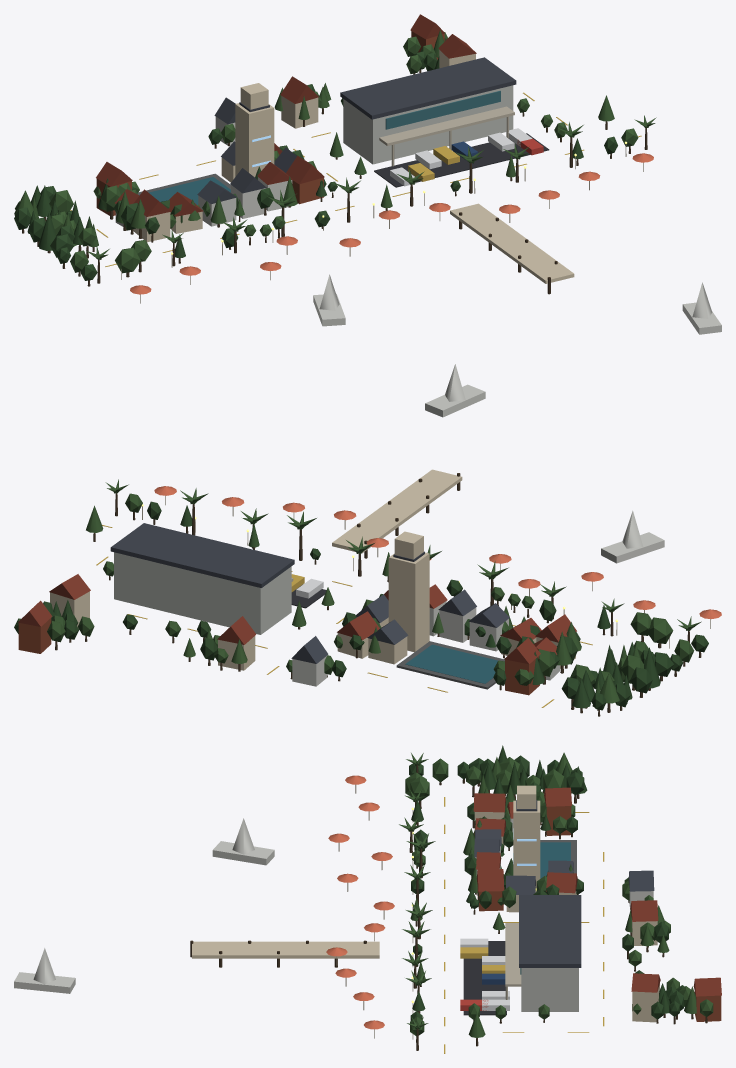
Rendered from maquette-ville-3.glb.
3 renders of one model, top to bottom at view 1: azimuth 30°, elevation 25°; view 2: azimuth 150°, elevation 25°; view 3: azimuth 270°, elevation 25°, orthographic. The views are drawn at different scales.
Parts seen in each view (by area): view 1: toiture_supermarche_1, halle_commerciale_1, ponton, tower_shaft_28, parking_slab_1, auvent_entree_1, bandeau_enseigne_1, petit_etang, house_body_65, bateau, tower_setback_28, house_roof_36 (+8 smaller); view 2: halle_commerciale_1, toiture_supermarche_1, tower_shaft_28, ponton, petit_etang, petit_etang_kerb, bateau_4, bateau, house_body_66, house_body_31, house_body_25, house_body_26 (+10 smaller); view 3: toiture_supermarche_1, ponton, halle_commerciale_1, tower_shaft_28, parking_slab_1, auvent_entree_1, bateau_4, bateau, petit_etang, house_body_67, house_roof_28, house_roof_36 (+8 smaller).
Boxes of the visible parts, bbox=[...] form: toiture_supermarche_1: bbox=[340, 57, 516, 119]; halle_commerciale_1: bbox=[343, 85, 513, 164]; ponton: bbox=[450, 203, 574, 283]; tower_shaft_28: bbox=[235, 103, 274, 177]; parking_slab_1: bbox=[374, 133, 549, 187]; auvent_entree_1: bbox=[379, 106, 514, 145]; bandeau_enseigne_1: bbox=[385, 90, 500, 129]; petit_etang: bbox=[139, 177, 230, 204]; house_body_65: bbox=[281, 96, 318, 128]; bateau: bbox=[682, 302, 721, 334]; tower_setback_28: bbox=[240, 83, 268, 109]; house_roof_36: bbox=[286, 155, 324, 184]; halle_commerciale_1: bbox=[114, 552, 291, 634]; toiture_supermarche_1: bbox=[110, 523, 294, 587]; tower_shaft_28: bbox=[388, 552, 429, 652]; ponton: bbox=[332, 469, 462, 553]; petit_etang: bbox=[405, 644, 497, 683]; petit_etang_kerb: bbox=[396, 641, 504, 689]; bateau_4: bbox=[601, 532, 664, 563]; bateau: bbox=[425, 384, 485, 417]; house_body_66: bbox=[18, 618, 51, 653]; house_body_31: bbox=[439, 607, 476, 642]; house_body_25: bbox=[292, 656, 327, 686]; house_body_26: bbox=[505, 656, 539, 695]; toiture_supermarche_1: bbox=[519, 895, 581, 967]; ponton: bbox=[192, 941, 379, 958]; halle_commerciale_1: bbox=[521, 968, 578, 1011]; tower_shaft_28: bbox=[513, 800, 540, 892]; parking_slab_1: bbox=[463, 941, 506, 1015]; auvent_entree_1: bbox=[505, 923, 521, 986]; bateau_4: bbox=[212, 841, 274, 865]; bateau: bbox=[14, 972, 75, 993]; petit_etang: bbox=[540, 842, 570, 878]; house_body_67: bbox=[632, 983, 659, 1022]; house_roof_28: bbox=[473, 793, 505, 812]; house_roof_36: bbox=[476, 869, 504, 891].
Bounding box in the file's own units: 90.09 × 16.46 × 97.99.
